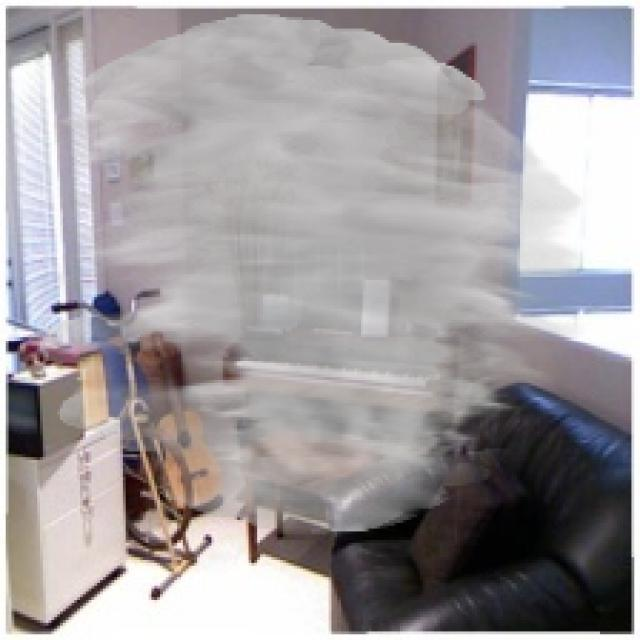Smoke: (37, 14, 586, 534)
